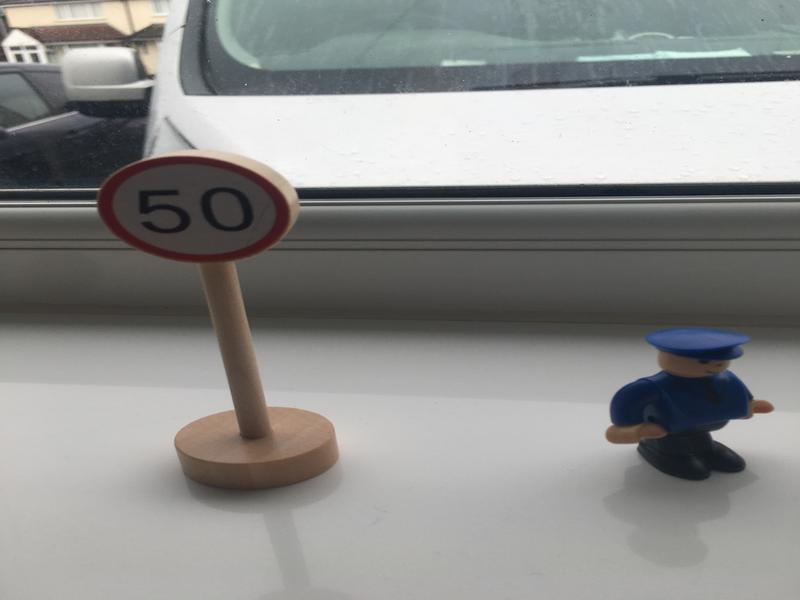Traffic_Sign_50: (98, 161, 291, 261)
person: (608, 330, 775, 491)
